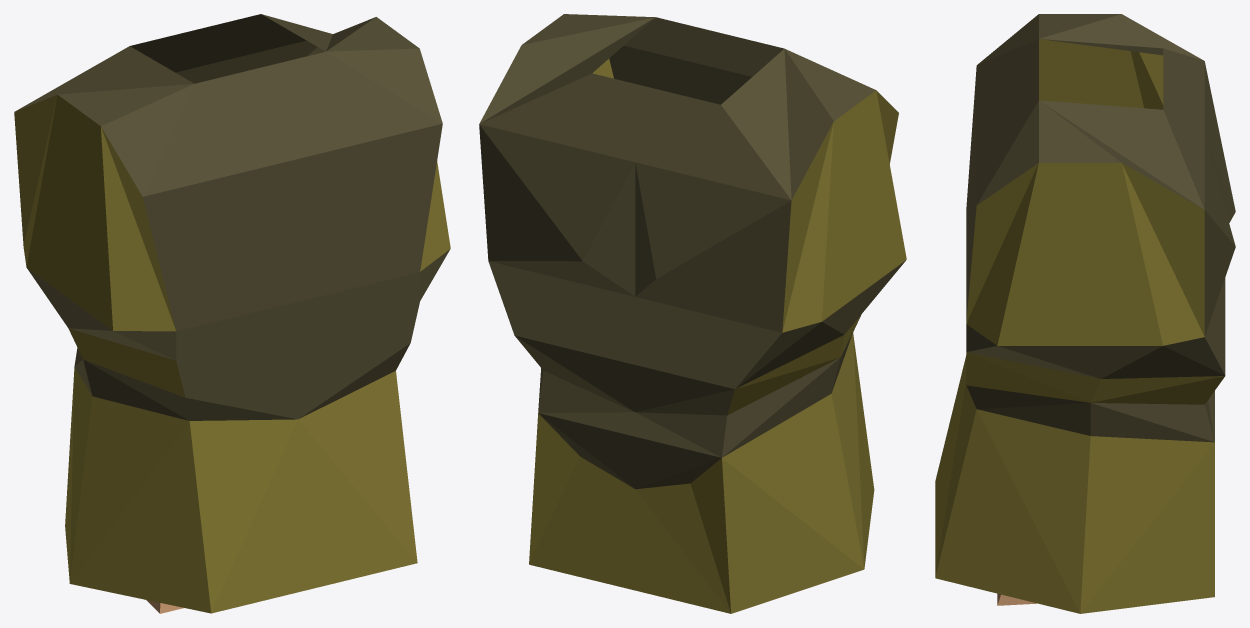
The model's file is npc_world_leatherworker_2.obj.
3 views of the same model, side by side, from view 1: azimuth 30°, elevation 25°; view 2: azimuth 150°, elevation 25°; view 3: azimuth 270°, elevation 25° (orthographic). The views are drawn at different scales.
Size of the model in its own units: 0.2812 by 0.3984 by 0.2266.
